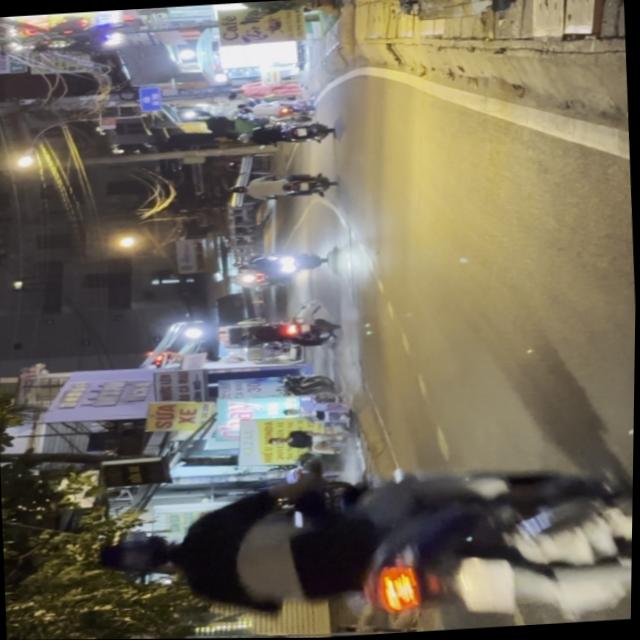helmet: (98, 530, 182, 580)
licenseplate: (91, 451, 635, 639)
nohelmet: (459, 556, 516, 617)
